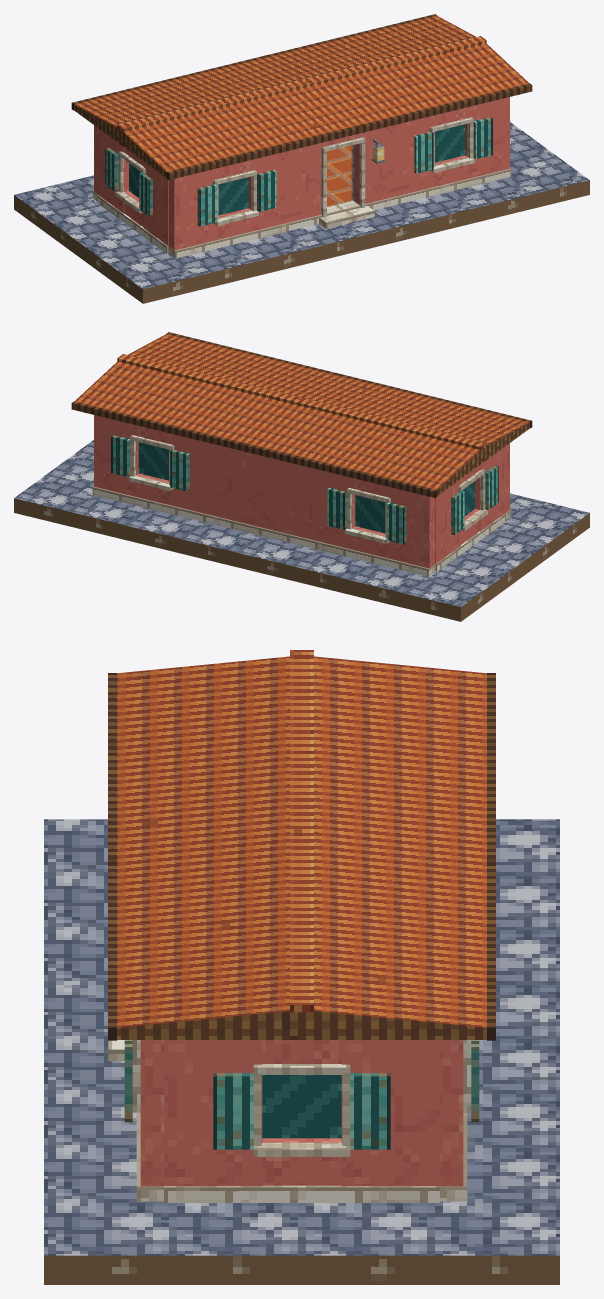
Rendered from coral_cottage.glb.
3 renders of one model, top to bottom at view 1: azimuth 30°, elevation 25°; view 2: azimuth 150°, elevation 25°; view 3: azimuth 270°, elevation 25°, orthographic. The views are drawn at different scales.
Parts seen in each view (by area): view 1: tile-coral_cottage__roof, tile-coral_cottage__terrain, tile-coral_cottage__walls_1_35, tile-coral_cottage__walls_1_32, tile-coral_cottage__ridge_cap, tile-coral_cottage__fascia_s, tile-coral_cottage__trim_1_39, tile-coral_cottage__walls_1_29, tile-coral_cottage__walls_1_38, tile-coral_cottage__floor_0_0, tile-coral_cottage__walls_2_47, tile-coral_cottage__walls_2_44 (+18 smaller); view 2: tile-coral_cottage__roof, tile-coral_cottage__terrain, tile-coral_cottage__walls_0_13, tile-coral_cottage__ridge_cap, tile-coral_cottage__fascia_s~z, tile-coral_cottage__trim_0_17, tile-coral_cottage__walls_0_10, tile-coral_cottage__walls_0_16, tile-coral_cottage__walls_2_44, tile-coral_cottage__walls_2_47, tile-coral_cottage__fascia_s, tile-coral_cottage__glass_0_5 (+13 smaller); view 3: tile-coral_cottage__roof, tile-coral_cottage__terrain, tile-coral_cottage__walls_3_53, tile-coral_cottage__walls_3_56, tile-coral_cottage__ridge_cap, tile-coral_cottage__glass_3_52, tile-coral_cottage__trim_3_57, tile-coral_cottage__walls_0_16, tile-coral_cottage__walls_1_38, tile-coral_cottage__fascia_s, tile-coral_cottage__fascia_s~z, tile-coral_cottage__shutter_ew~x (+7 smaller).
Boxes of the visible parts, left/top/right/bottom form: tile-coral_cottage__roof: left=74, top=16, right=529, bottom=177; tile-coral_cottage__terrain: left=14, top=122, right=589, bottom=303; tile-coral_cottage__walls_1_35: left=353, top=115, right=433, bottom=204; tile-coral_cottage__walls_1_32: left=248, top=142, right=324, bottom=231; tile-coral_cottage__ridge_cap: left=117, top=36, right=486, bottom=132; tile-coral_cottage__fascia_s: left=166, top=83, right=532, bottom=179; tile-coral_cottage__trim_1_39: left=168, top=168, right=511, bottom=258; tile-coral_cottage__walls_1_29: left=168, top=168, right=216, bottom=250; tile-coral_cottage__walls_1_38: left=465, top=97, right=509, bottom=178; tile-coral_cottage__floor_0_0: left=327, top=145, right=351, bottom=206; tile-coral_cottage__walls_2_47: left=143, top=162, right=168, bottom=245; tile-coral_cottage__walls_2_44: left=99, top=129, right=128, bottom=213; tile-coral_cottage__roof: left=74, top=334, right=529, bottom=495; tile-coral_cottage__terrain: left=14, top=440, right=589, bottom=621; tile-coral_cottage__walls_0_13: left=171, top=433, right=355, bottom=549; tile-coral_cottage__ridge_cap: left=117, top=354, right=486, bottom=450; tile-coral_cottage__fascia_s~z: left=71, top=401, right=437, bottom=497; tile-coral_cottage__trim_0_17: left=92, top=486, right=435, bottom=576; tile-coral_cottage__walls_0_10: left=387, top=486, right=435, bottom=568; tile-coral_cottage__walls_0_16: left=94, top=415, right=138, bottom=496; tile-coral_cottage__walls_2_44: left=435, top=480, right=460, bottom=563; tile-coral_cottage__walls_2_47: left=475, top=447, right=504, bottom=531; tile-coral_cottage__fascia_s: left=166, top=332, right=532, bottom=428; tile-coral_cottage__glass_0_5: left=355, top=495, right=385, bottom=533; tile-coral_cottage__roof: left=117, top=656, right=486, bottom=1039; tile-coral_cottage__terrain: left=44, top=819, right=559, bottom=1284; tile-coral_cottage__walls_3_53: left=341, top=1040, right=439, bottom=1186; tile-coral_cottage__walls_3_56: left=164, top=1040, right=262, bottom=1186; tile-coral_cottage__ridge_cap: left=290, top=650, right=313, bottom=1012; tile-coral_cottage__glass_3_52: left=262, top=1075, right=341, bottom=1138; tile-coral_cottage__trim_3_57: left=164, top=1185, right=439, bottom=1202; tile-coral_cottage__walls_0_16: left=439, top=1040, right=463, bottom=1186; tile-coral_cottage__walls_1_38: left=140, top=1040, right=164, bottom=1186; tile-coral_cottage__fascia_s: left=108, top=673, right=116, bottom=1040; tile-coral_cottage__fascia_s~z: left=487, top=673, right=495, bottom=1040; tile-coral_cottage__shutter_ew~x: left=213, top=1073, right=253, bottom=1149.
Size of the model in its own units: 13.2 by 3.38 by 6.6.
Materials: 13 (13 with a texture image).
